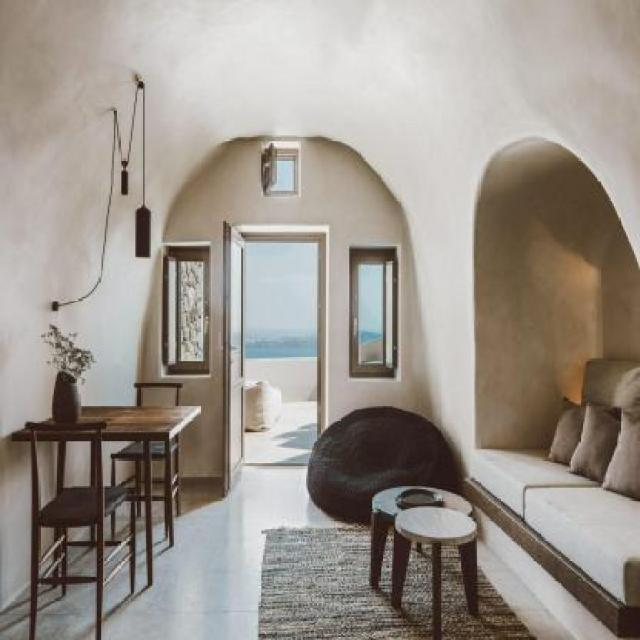Floor: (101, 465, 349, 639), (244, 401, 317, 460), (34, 582, 96, 639), (1, 584, 31, 639), (67, 546, 96, 576), (114, 501, 130, 540), (75, 526, 90, 540), (152, 483, 164, 496), (105, 514, 111, 539), (140, 482, 144, 496)
